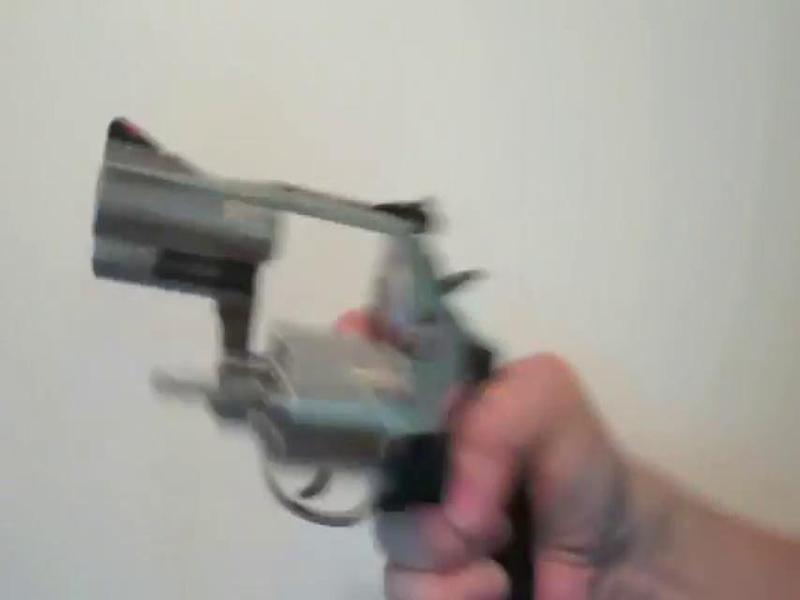Revolver: (80, 85, 545, 600)
